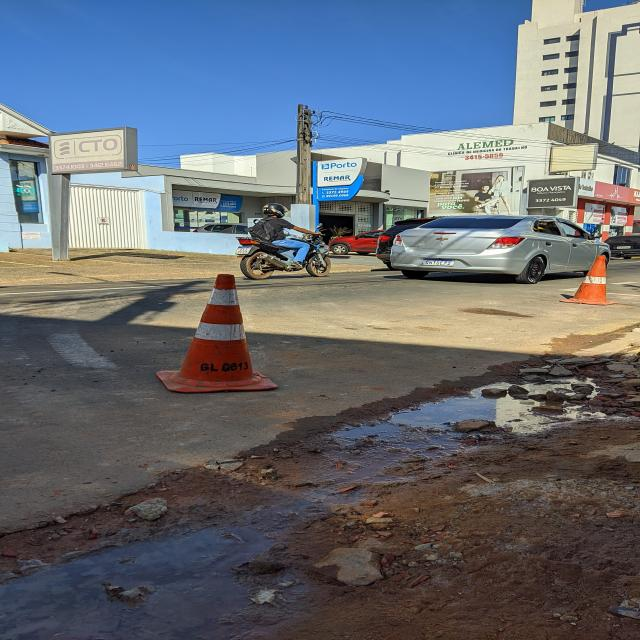cone: (147, 268, 286, 396), (556, 252, 624, 308)
